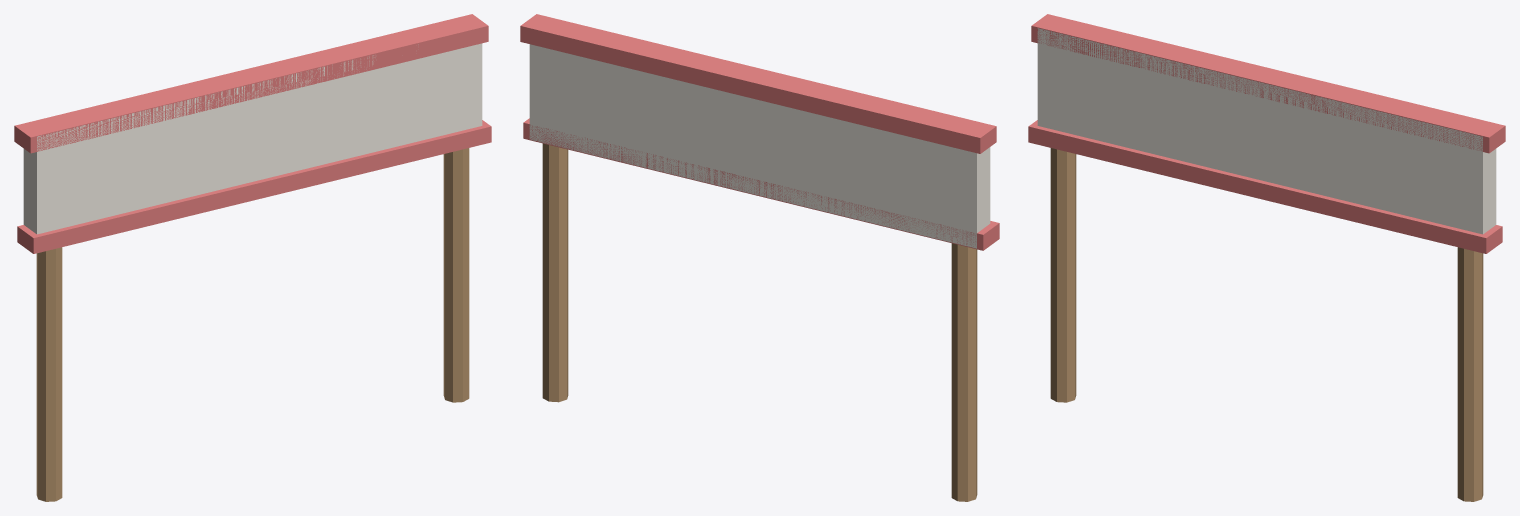
File: sign.glb
3 views of the same model, side by side, from view 1: azimuth 30°, elevation 25°; view 2: azimuth 150°, elevation 25°; view 3: azimuth 330°, elevation 25° (orthographic).
Visible parts, largest first — view 1: sign; view 2: sign; view 3: sign.
Part boxes in pixels (x1,y1,x2,y2): sign: (14,14,491,501); sign: (520,14,999,501); sign: (1028,14,1505,501).
Size of the model in its own units: 3.6 by 2.78 by 0.26.
